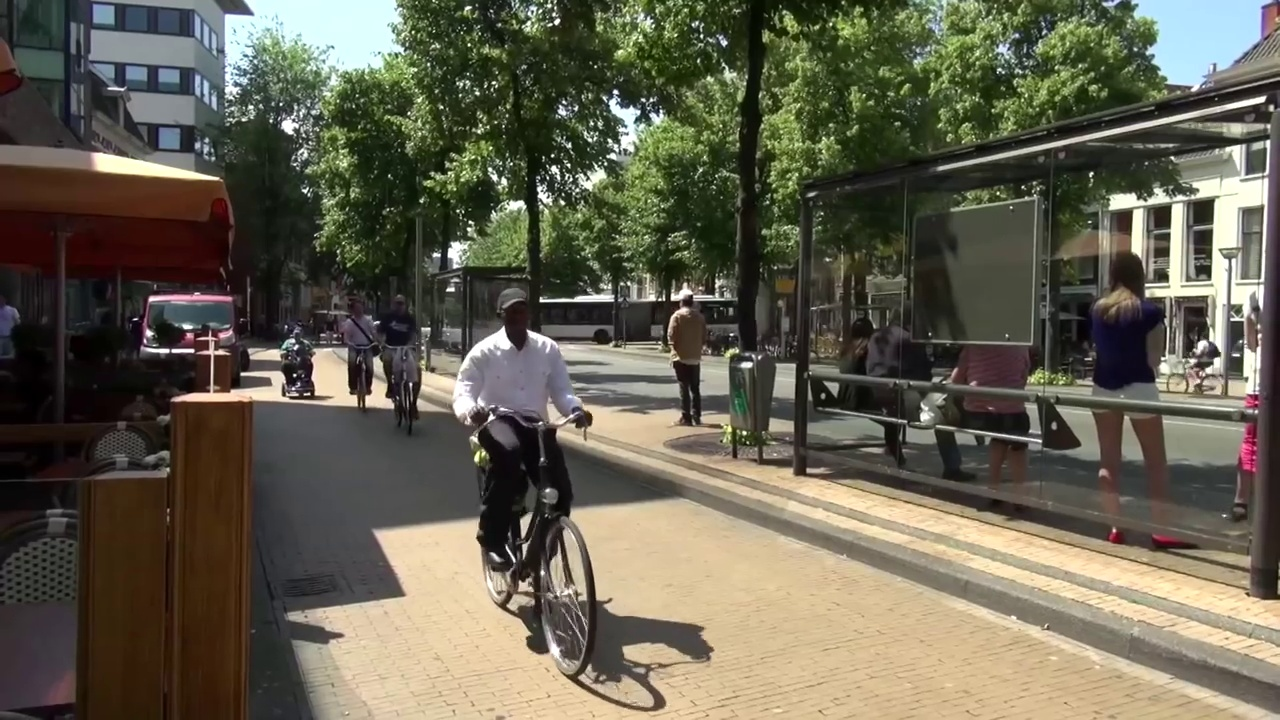cyclist_front: (456, 279, 615, 686), (380, 284, 427, 439), (341, 297, 384, 414)
